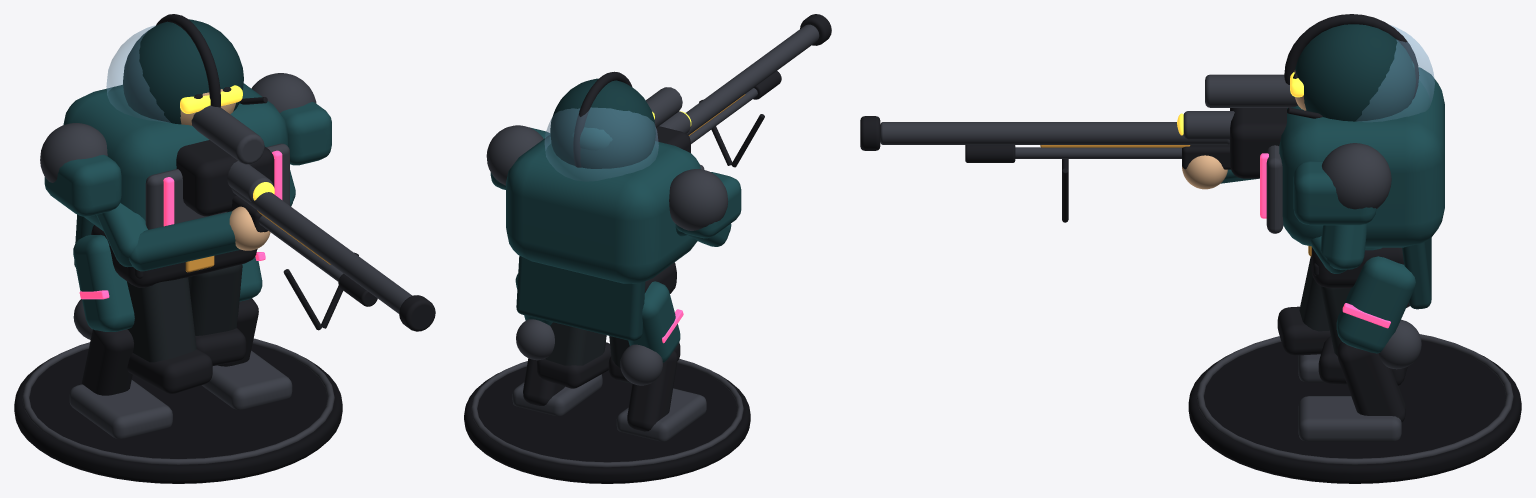
The model's file is skytte.glb.
3 renders of one model, left to right at view 1: azimuth 30°, elevation 25°; view 2: azimuth 150°, elevation 25°; view 3: azimuth 270°, elevation 25°, orthographic. The views are drawn at different scales.
Parts seen in each view (by area): view 1: fod_net, op4.003_net, vaaben5_net, benV5_net, skuldre5_net, hoved_net, benV_net, skuldre_net, benH5_net, benH_net, hoved5_net, vaaben_net (+3 smaller); view 2: fod_net, op4.003_net, benV5_net, op2_net, hoved5_net, hoved_net, skuldre5_net, vaaben5_net, benH5_net, benH_net, vaaben_net, op3_net (+4 smaller); view 3: fod_net, op4.003_net, vaaben5_net, benH5_net, hoved_net, skuldre5_net, hoved5_net, vaaben_net, skuldre_net, benV_net, op3_net, benH_net (+2 smaller).
Part boxes in pixels (x1,y1,x2,y2): fod_net: (14,338,342,483); op4.003_net: (63,83,289,287); vaaben5_net: (176,105,435,331); benV5_net: (69,235,172,438); skuldre5_net: (40,73,331,216); hoved_net: (123,19,243,125); benV_net: (127,277,212,394); skuldre_net: (96,170,295,271); benH5_net: (202,252,292,409); benH_net: (188,264,246,365); hoved5_net: (106,25,170,122); vaaben_net: (226,195,377,306); fod_net: (464,359,750,483); op4.003_net: (506,134,704,293); benV5_net: (616,281,706,441); op2_net: (516,255,645,341); hoved5_net: (544,107,658,181); hoved_net: (550,78,655,168); skuldre5_net: (486,125,741,238); vaaben5_net: (646,14,831,152); benH5_net: (512,273,602,416); benH_net: (537,322,610,388); vaaben_net: (689,71,781,143); op3_net: (573,71,632,167); fod_net: (1188,334,1521,483); op4.003_net: (1260,67,1444,287); vaaben5_net: (860,74,1297,178); benH5_net: (1298,256,1421,441); hoved_net: (1290,24,1415,121); skuldre5_net: (1293,143,1391,225); hoved5_net: (1356,25,1434,121); vaaben_net: (965,143,1230,169); skuldre_net: (1182,155,1366,273); benV_net: (1277,256,1330,355); op3_net: (1284,14,1419,118); benH_net: (1318,286,1407,385).
Size of the model in its own units: 2 by 2.67 by 3.97.
